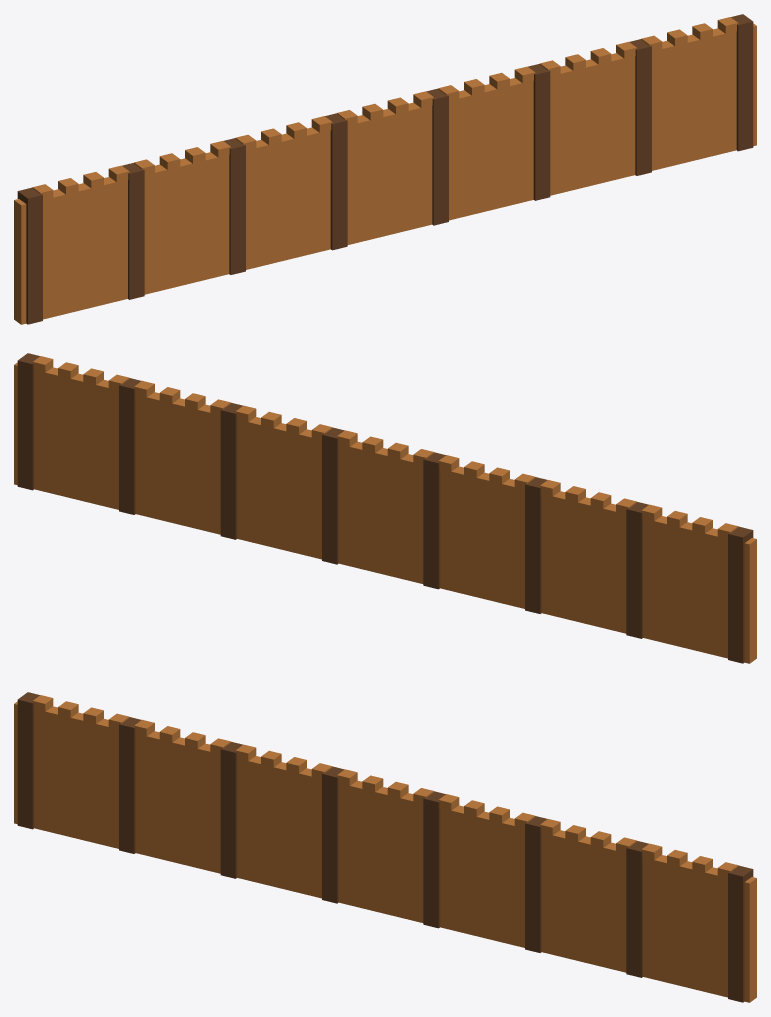
Rendered from mdl_muro_frontal.fbx.
3 views of the same model, one above another, from view 1: azimuth 30°, elevation 25°; view 2: azimuth 150°, elevation 25°; view 3: azimuth 330°, elevation 25° (orthographic).
Parts seen in each view (by area): view 1: mdl_muro_frontal; view 2: mdl_muro_frontal; view 3: mdl_muro_frontal.
Boxes of the visible parts, x1,y1,x2,y2 form: mdl_muro_frontal: (14, 14, 756, 324); mdl_muro_frontal: (14, 353, 756, 663); mdl_muro_frontal: (14, 692, 756, 1002).
Size of the model in its own units: 11600 by 1920 by 280.
